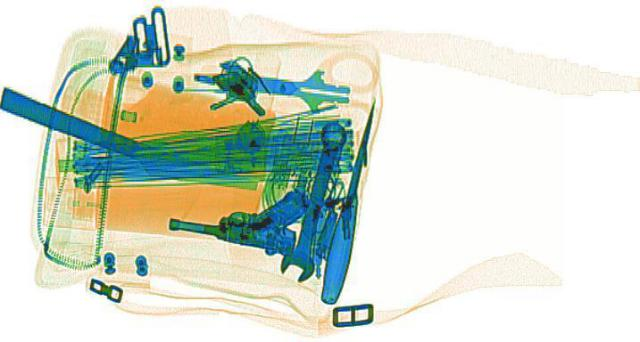Gun: (154, 170, 333, 256)
Knife: (0, 95, 259, 196), (314, 95, 382, 302), (180, 56, 358, 113)
Wrench: (274, 119, 352, 280)
